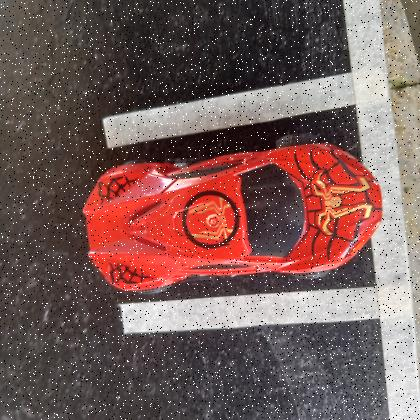Car: (82, 140, 383, 291)
